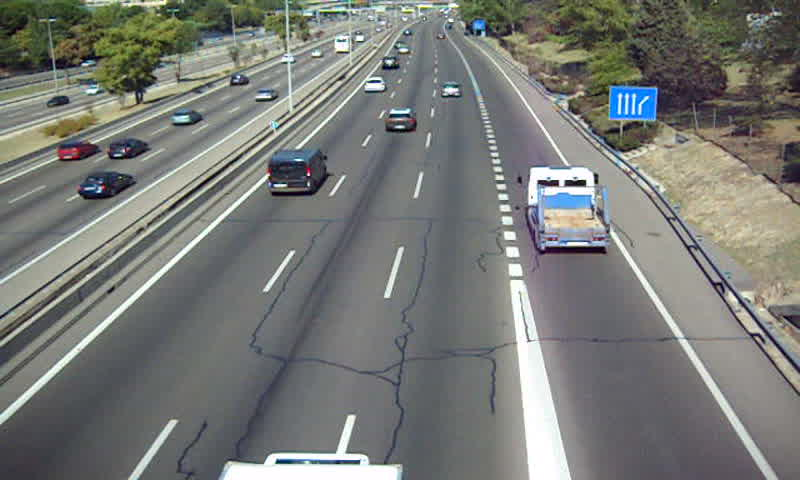car: (385, 108, 414, 133), (440, 82, 463, 100), (362, 76, 386, 93), (380, 55, 399, 70)
small-truck: (525, 167, 612, 250)
van: (263, 149, 327, 195)
